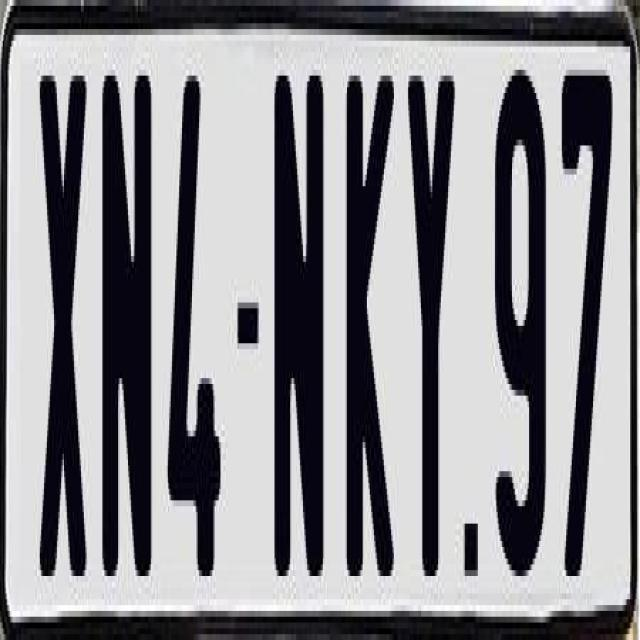4: (164, 75, 218, 606)
7: (560, 58, 613, 576)
9: (493, 52, 548, 588)
K: (344, 64, 394, 570)
N: (102, 64, 156, 582), (274, 76, 328, 594)
X: (40, 58, 96, 594)
Y: (406, 58, 456, 588)
